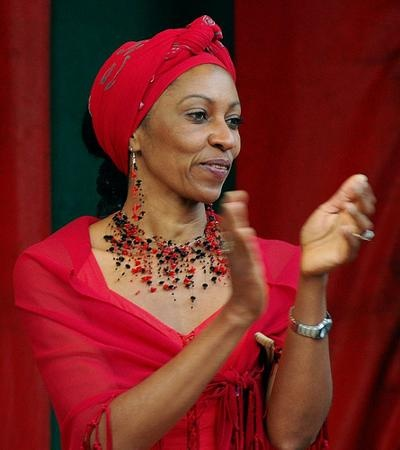person without safety: (9, 15, 300, 450)
